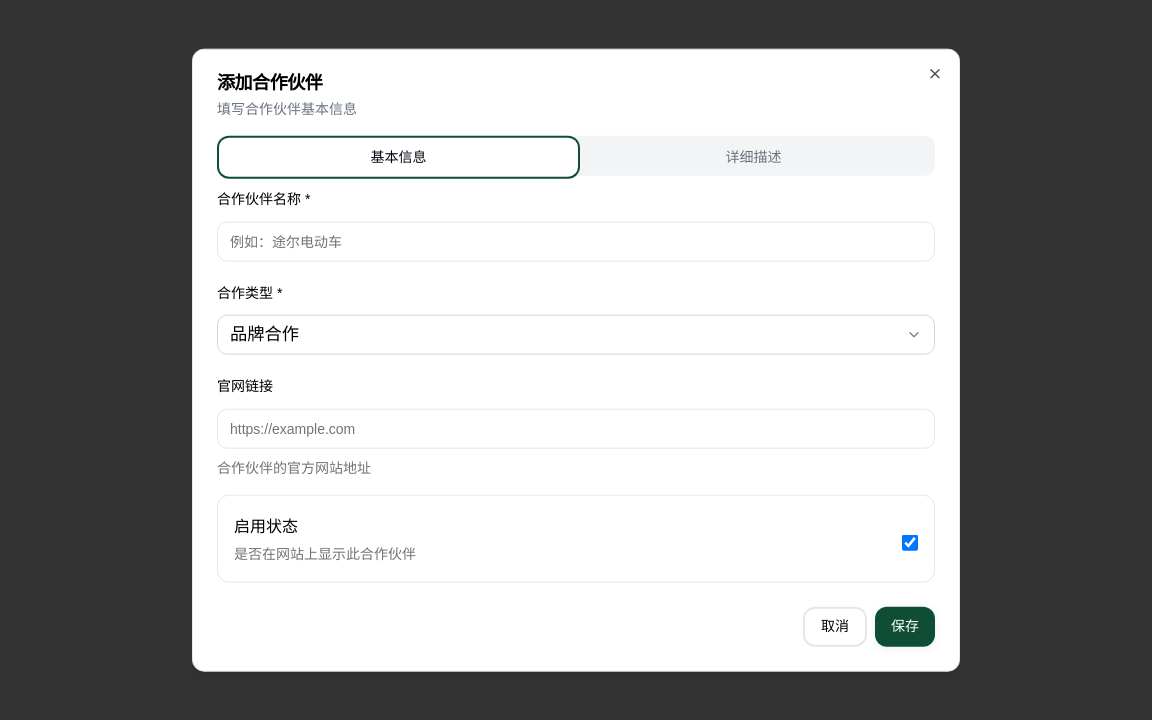
Scenario: PartnerEditor - Form Validation Tests (Requirements 10.2) › Required Field Validation › should show validation error when partner name is empty
Click the button "保存" at (905, 626), box [875,606,935,646]
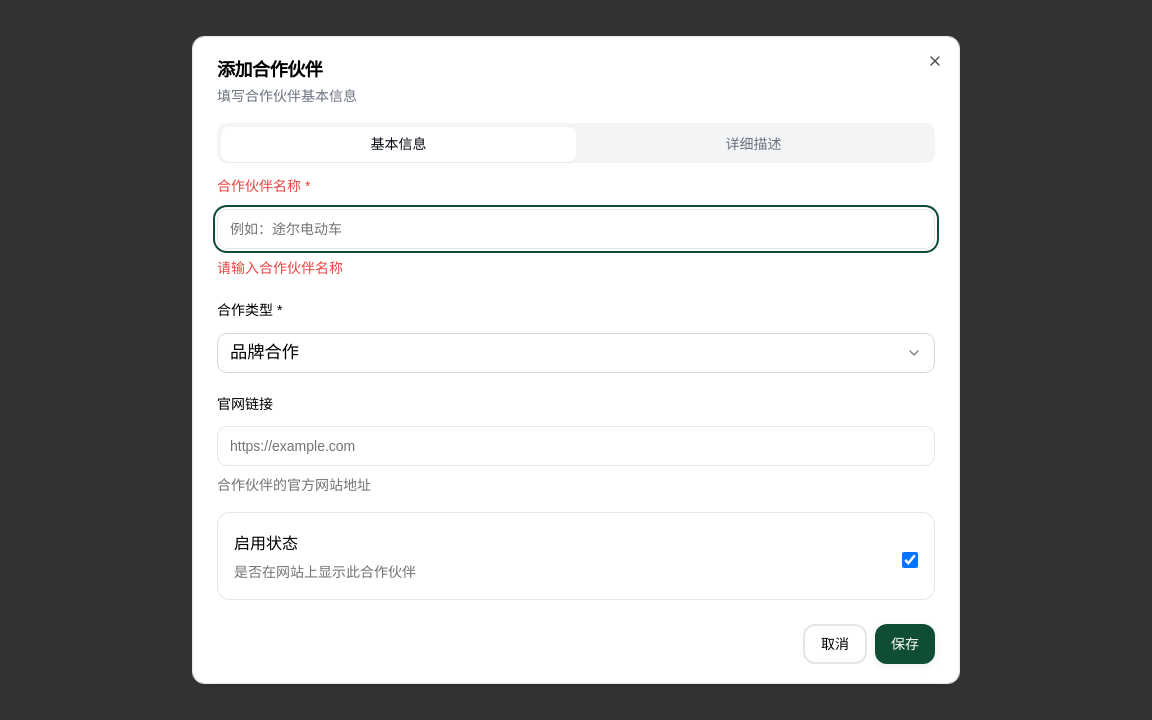
Expected: the text "请输入合作伙伴名称" is shown, [217,260,343,276]
